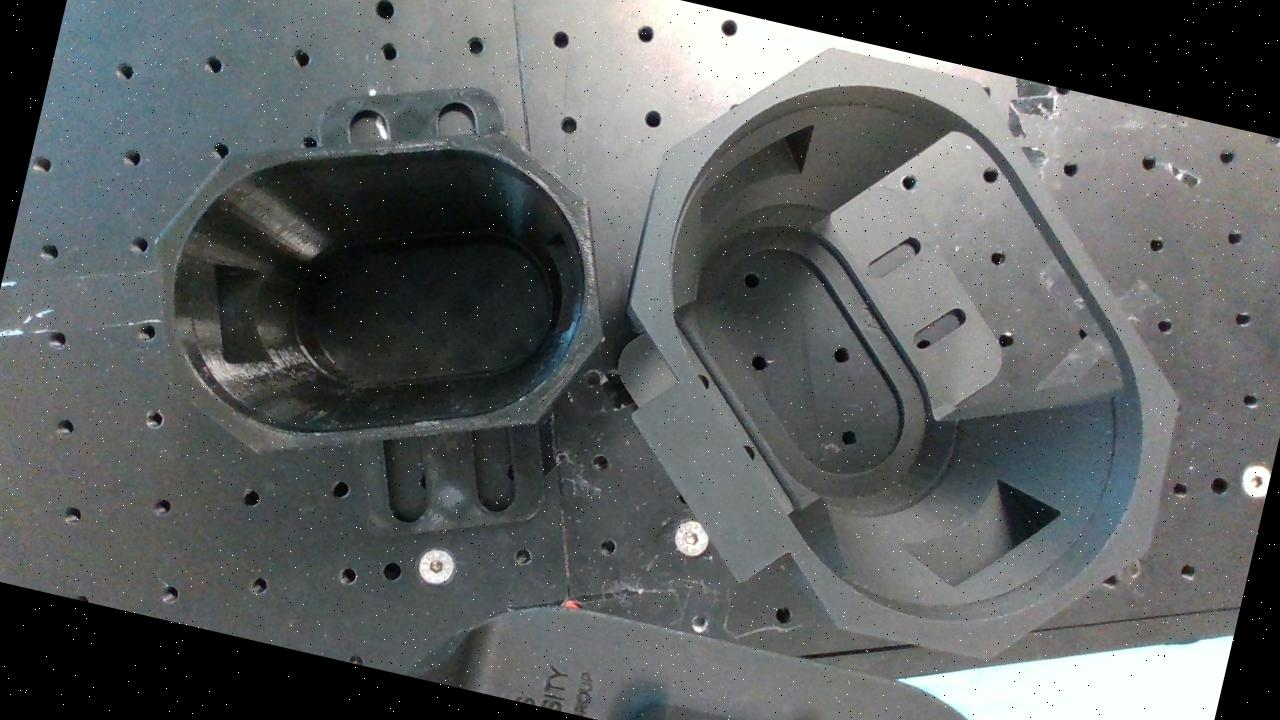big_interface: (567, 17, 1244, 694)
small_interface: (111, 61, 645, 524)
